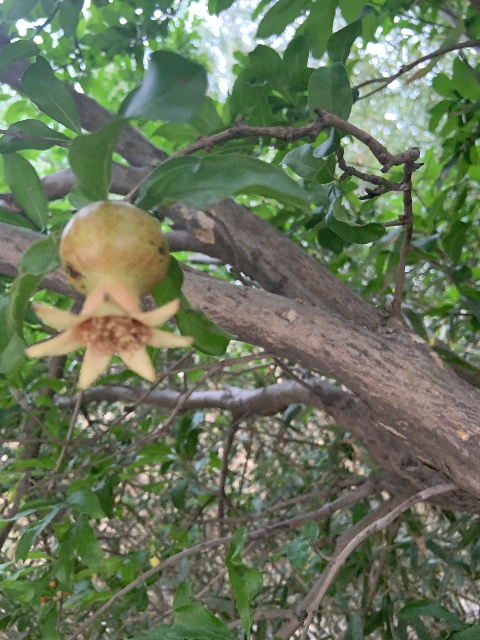early-fruit: (26, 200, 195, 392)
